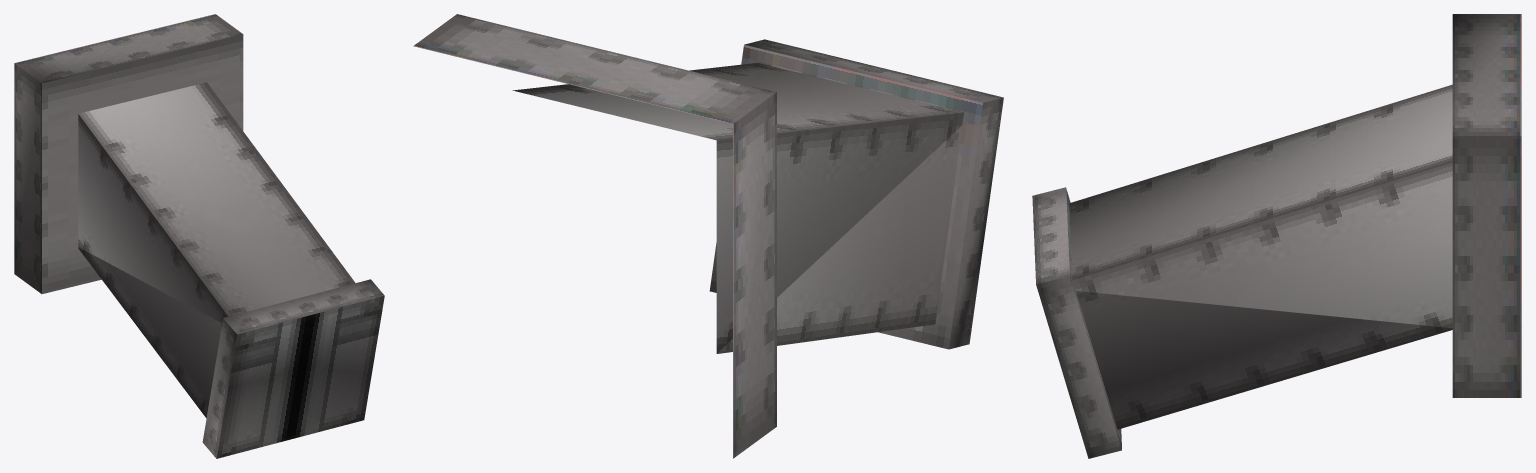
The model's file is cfo_crane_controls.glb.
The picture shows the model from 3 angles, left to right: view 1: azimuth 30°, elevation 25°; view 2: azimuth 150°, elevation 25°; view 3: azimuth 270°, elevation 25°; orthographic projection. The views are drawn at different scales.
Visible parts, largest first — view 1: sides, bottom, top; view 2: sides, bottom, top; view 3: sides, bottom, top.
Boxes of the visible parts, left/top/right/bottom form: sides: left=78, top=82, right=355, bottom=418; bottom: left=14, top=14, right=243, bottom=293; top: left=202, top=279, right=384, bottom=458; sides: left=512, top=63, right=963, bottom=353; bottom: left=413, top=14, right=776, bottom=458; top: left=709, top=39, right=1003, bottom=349; sides: left=1069, top=84, right=1452, bottom=429; bottom: left=1452, top=14, right=1521, bottom=397; top: left=1032, top=187, right=1121, bottom=458.
Bounding box in the file's own units: 1.96 × 2.55 × 3.32.
1 material, 1 textured.
